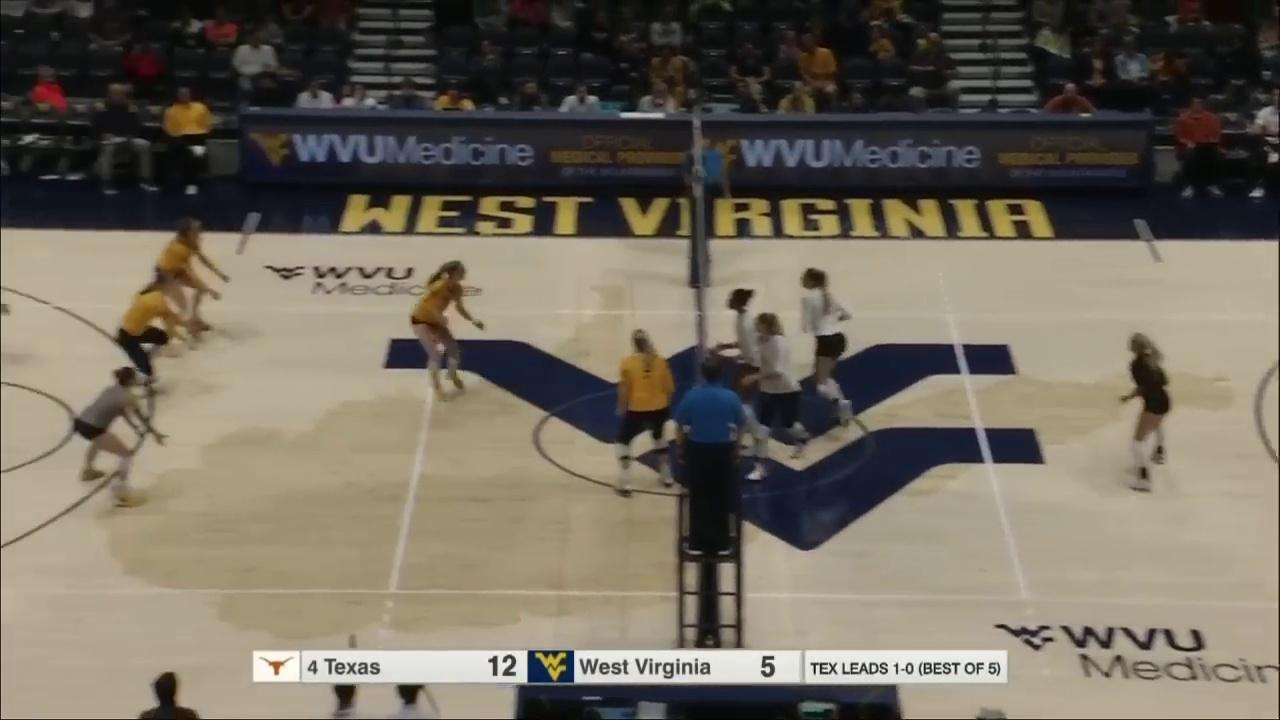player: (71, 365, 169, 507), (739, 314, 811, 481), (411, 259, 485, 403), (618, 327, 675, 499), (713, 287, 771, 451), (799, 269, 854, 425), (115, 273, 181, 397), (155, 221, 226, 334), (1123, 332, 1172, 493)
refree: (675, 359, 745, 556), (685, 138, 728, 257)
